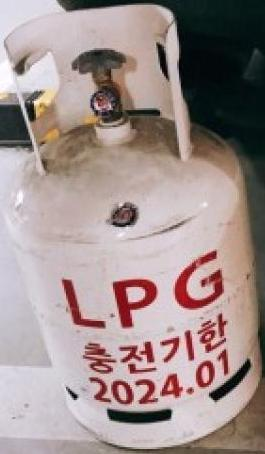cylinder: (1, 1, 265, 454)
